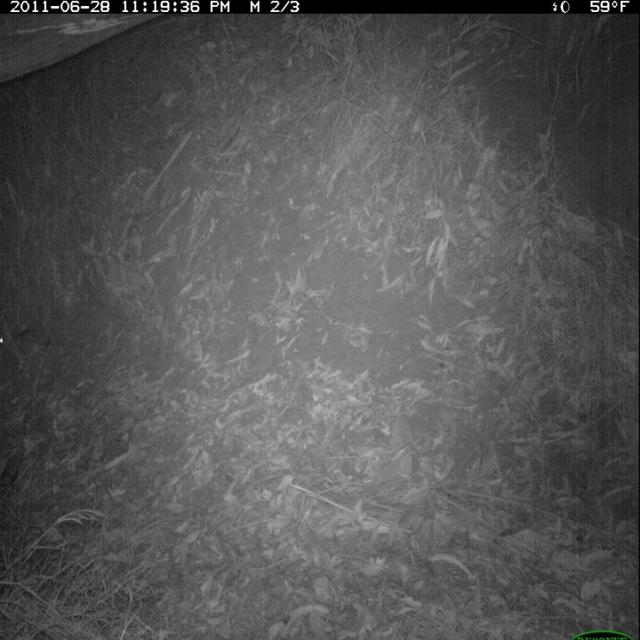rabbit: (1, 311, 54, 375)
